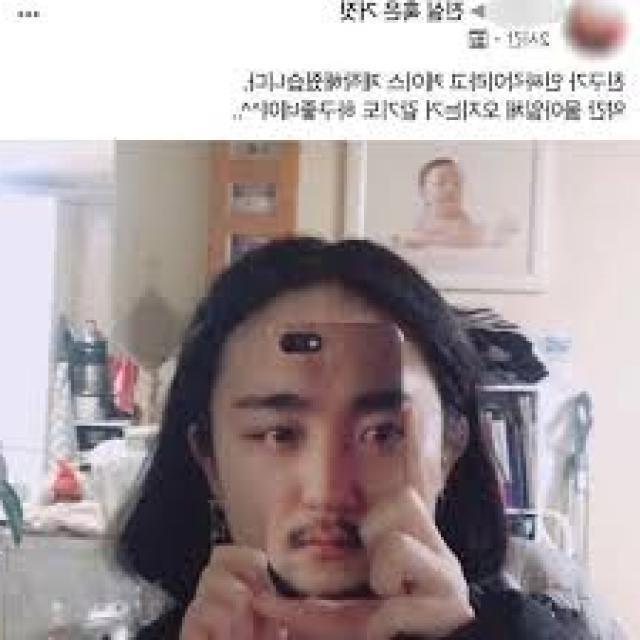mobile: (258, 312, 407, 600)
